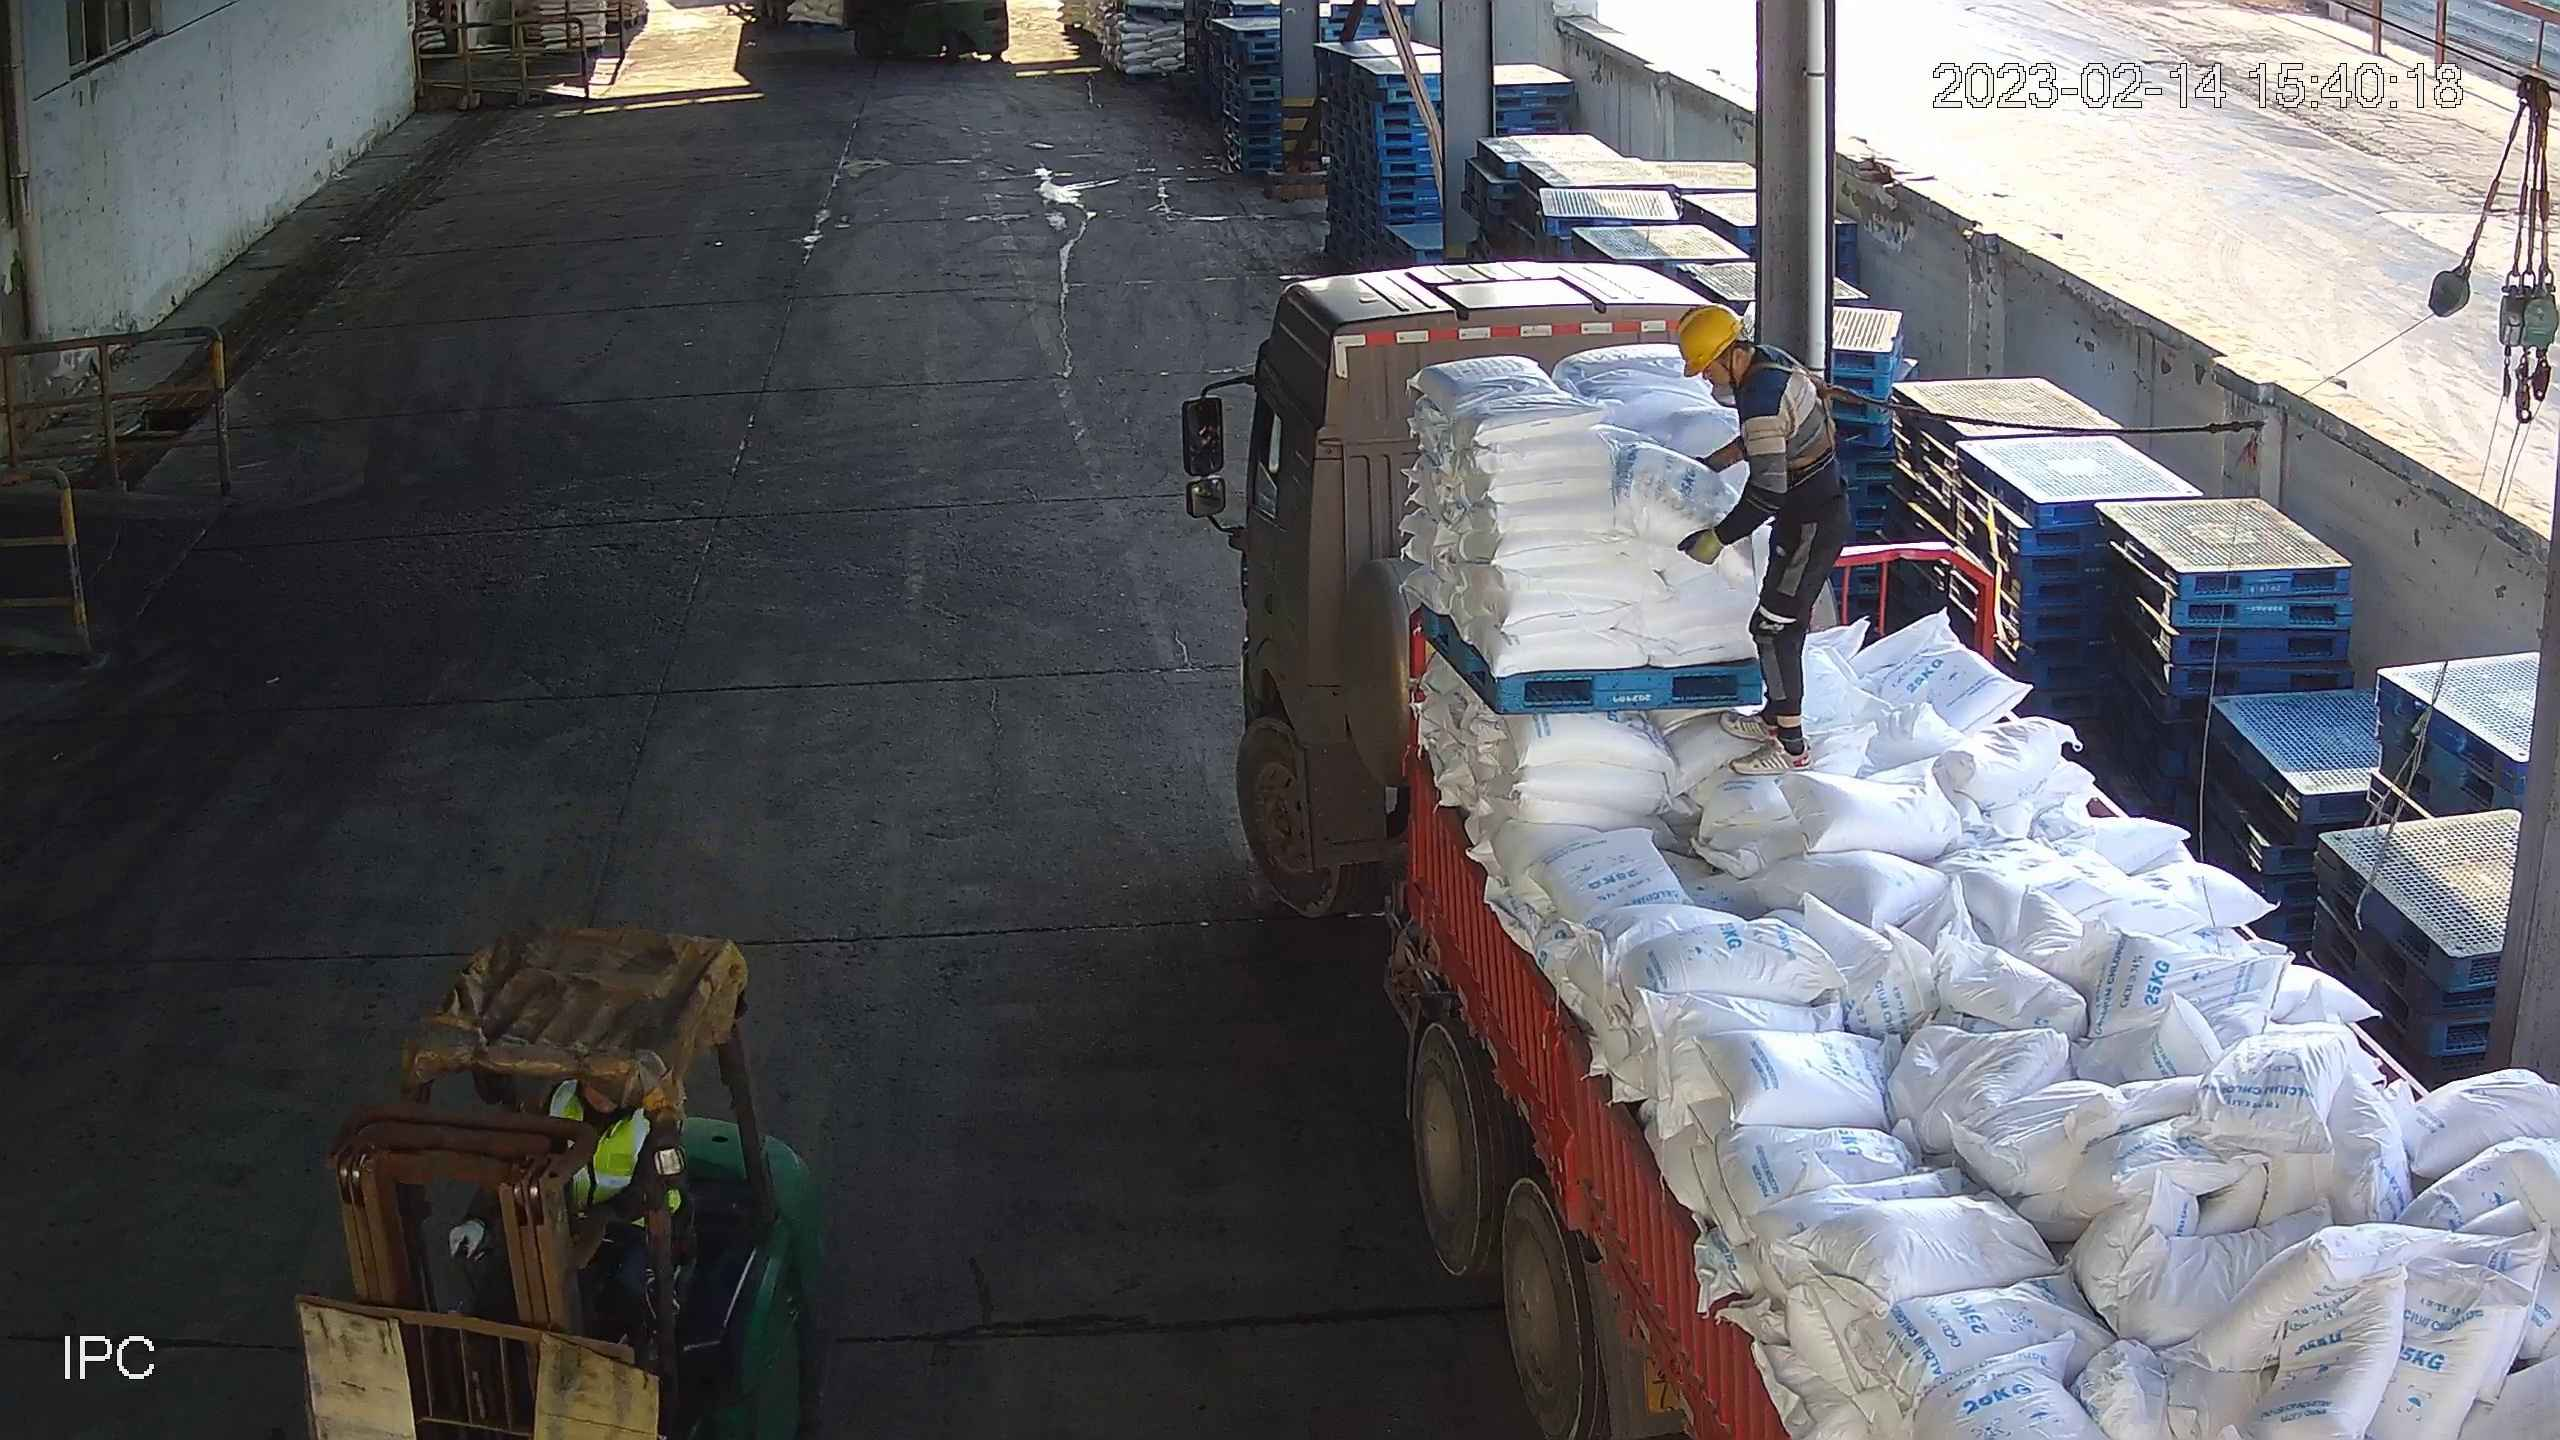belt: (1748, 358, 1855, 471)
head: (1675, 308, 1817, 417)
helmet: (1663, 301, 1741, 374)
people: (1672, 303, 1851, 771)
truck: (1184, 253, 2560, 1440)
